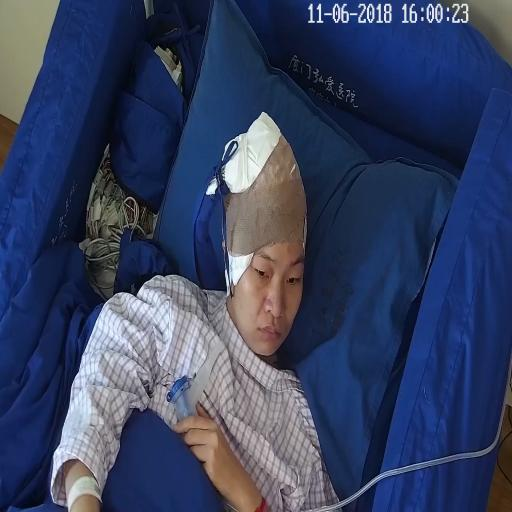Seizure: (214, 123, 316, 358)
